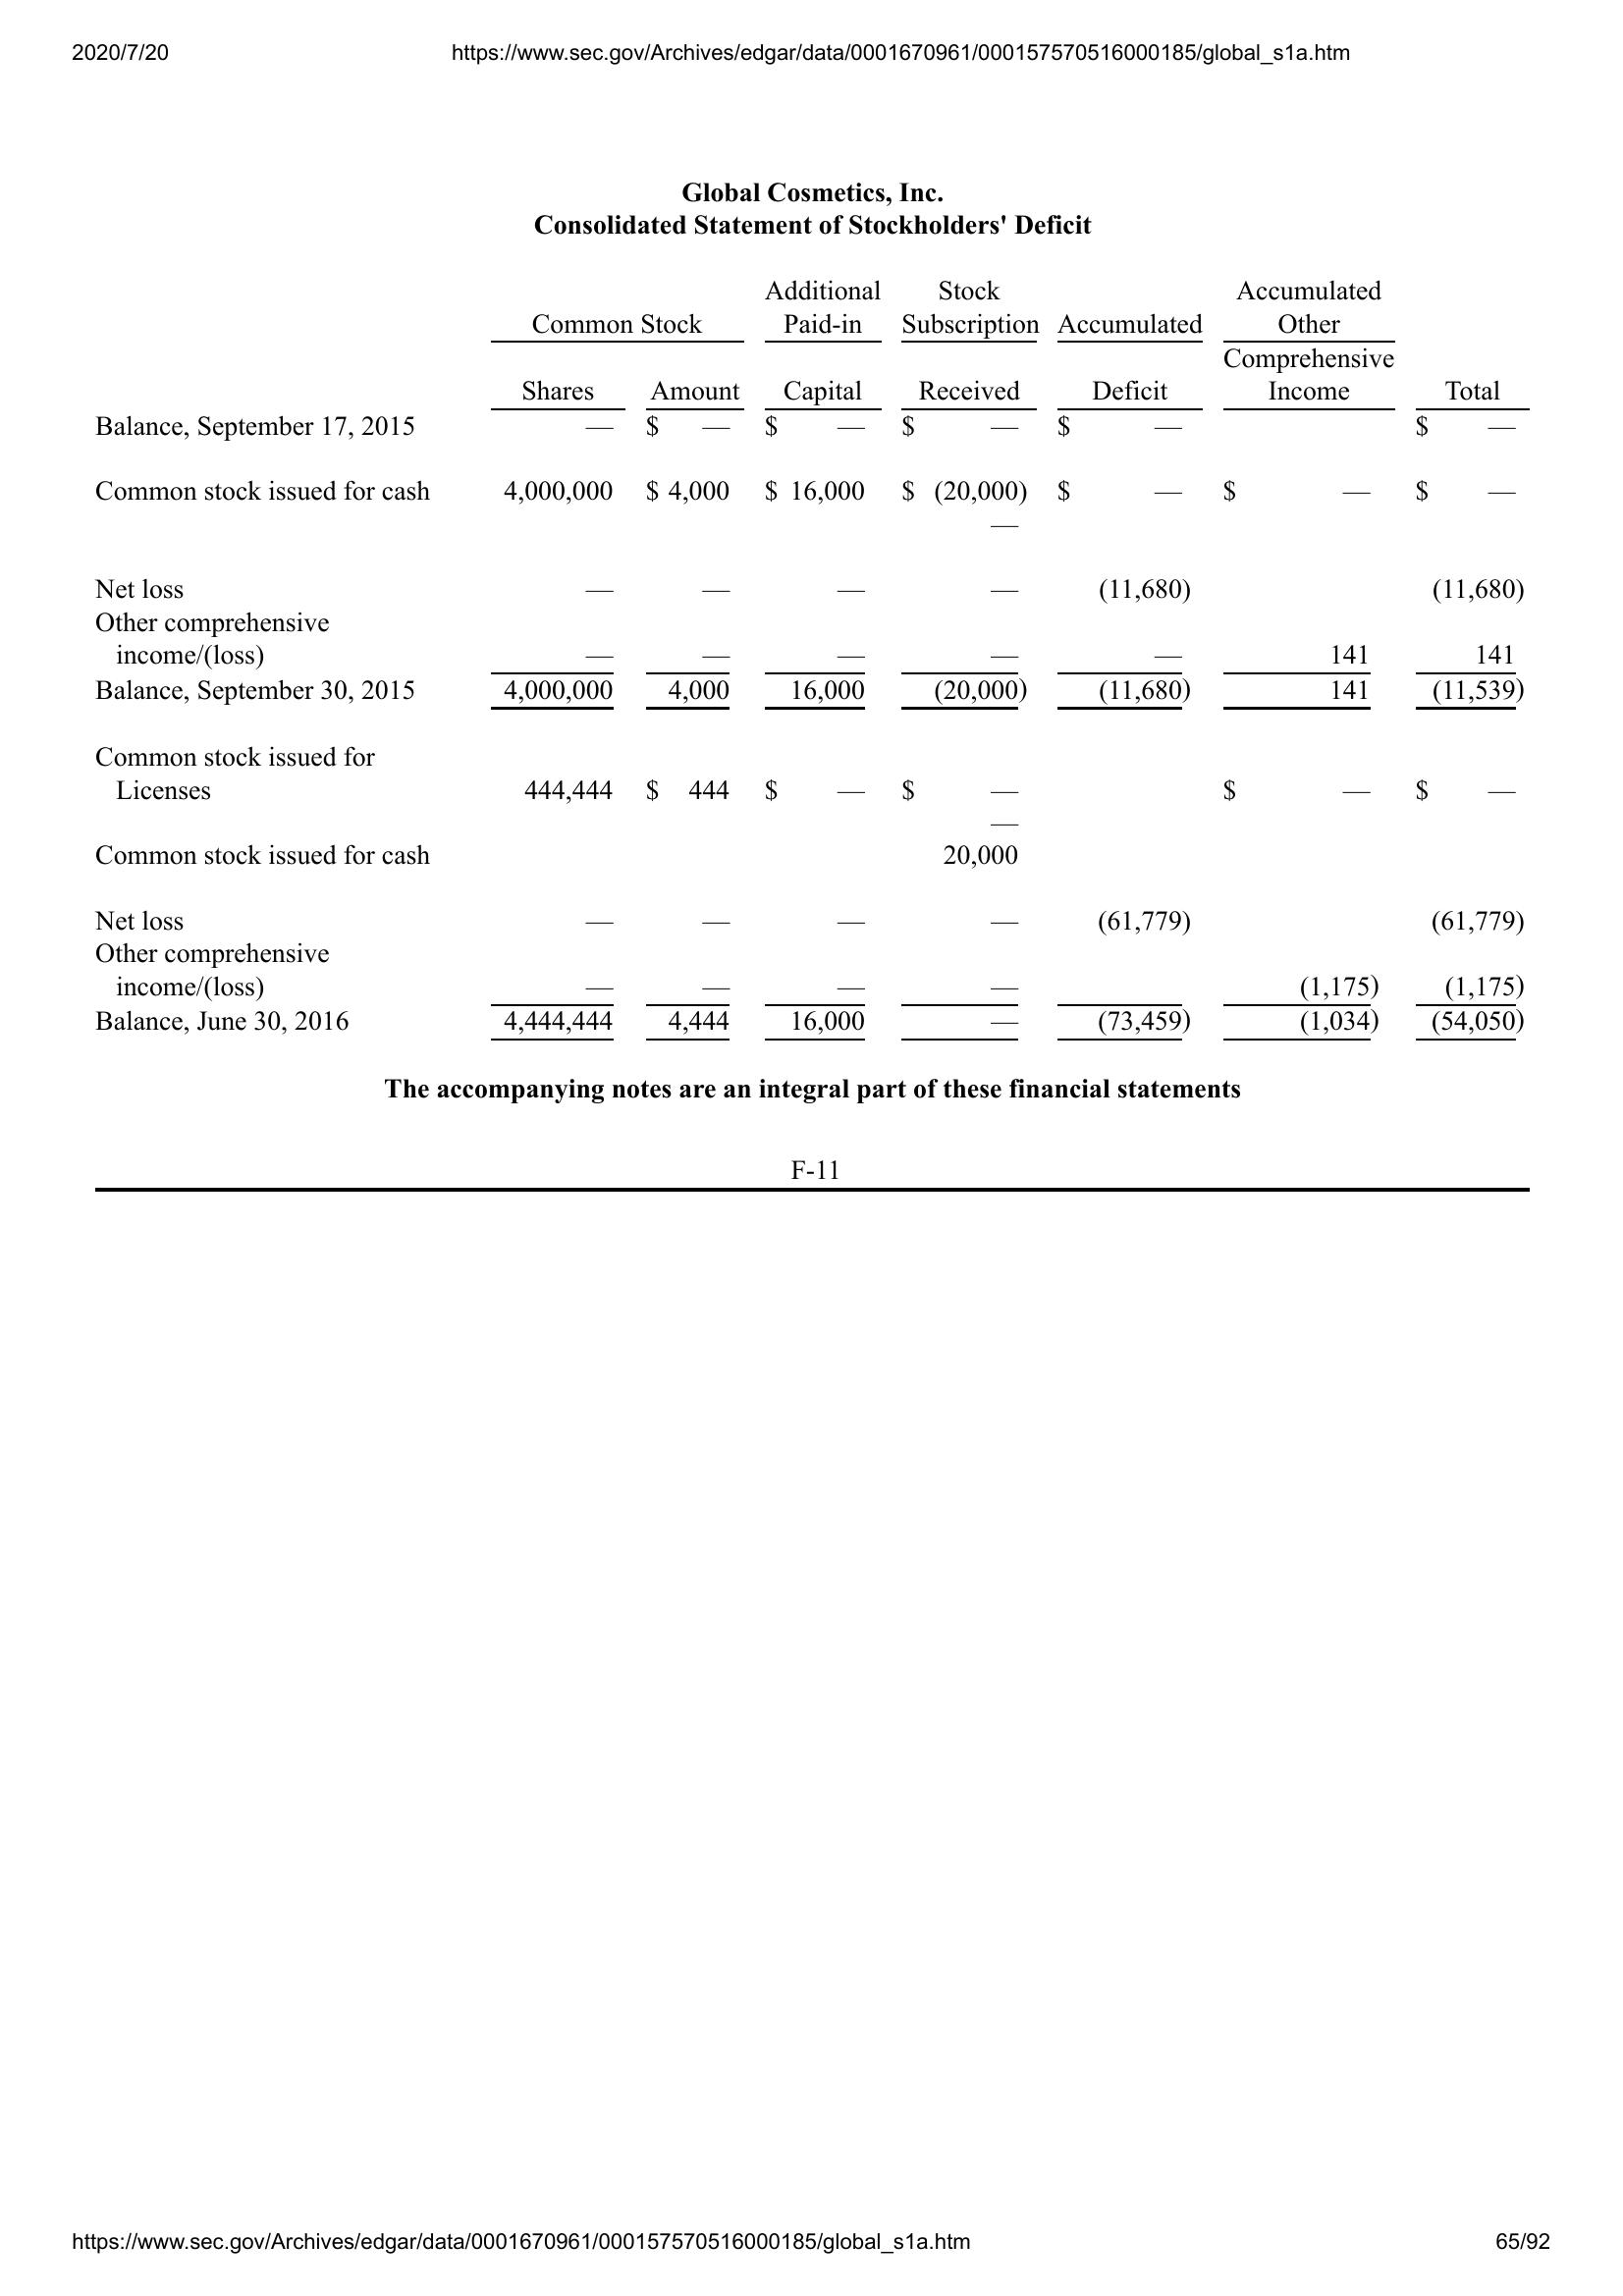table: (88, 274, 1542, 1048)
